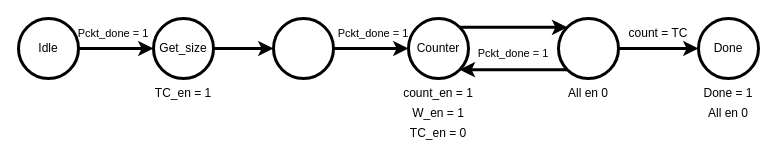
Some shapes in this 781 by 166 pixel diagram are drawn without their labels. The shapes that lost their labels are listed below. From the top down, each one's centre as x and y in pixels, then its label:
point 303,48: Wait
point 588,48: D_Wait
